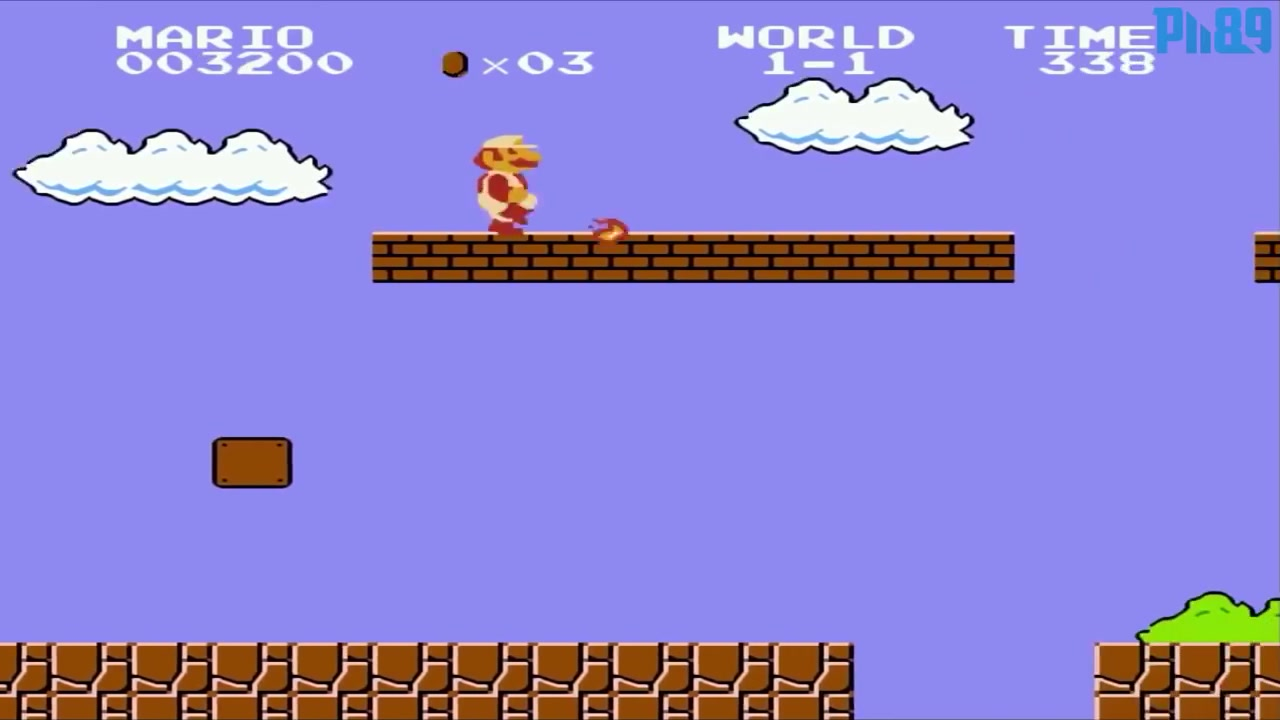mario: (462, 130, 545, 249)
